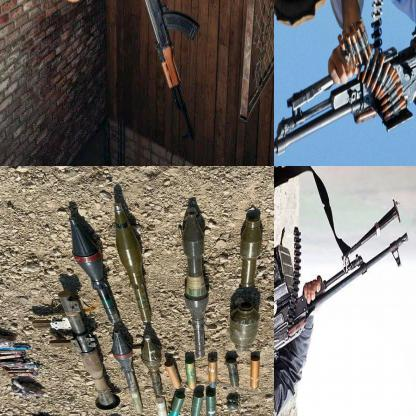rifle: (274, 198, 410, 397), (274, 0, 415, 165), (30, 282, 127, 410), (140, 0, 201, 143), (99, 197, 154, 325), (62, 214, 121, 322), (171, 202, 213, 298), (229, 204, 268, 292), (107, 326, 148, 392), (131, 336, 168, 400)
